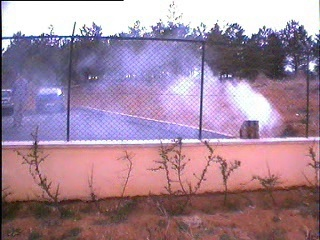smoke: (124, 40, 280, 134)
